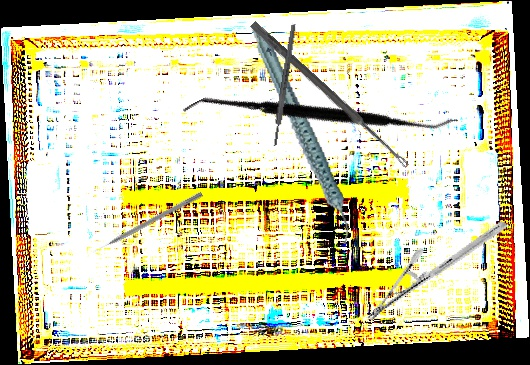Handpiece: (250, 17, 353, 254)
Needle Holder: (366, 186, 508, 356)
Pusher: (90, 190, 204, 255)
Scalpel Handle: (271, 23, 298, 147)
Spatula Surgical: (182, 1, 454, 230)
Surgical Spoon: (248, 21, 412, 169)
